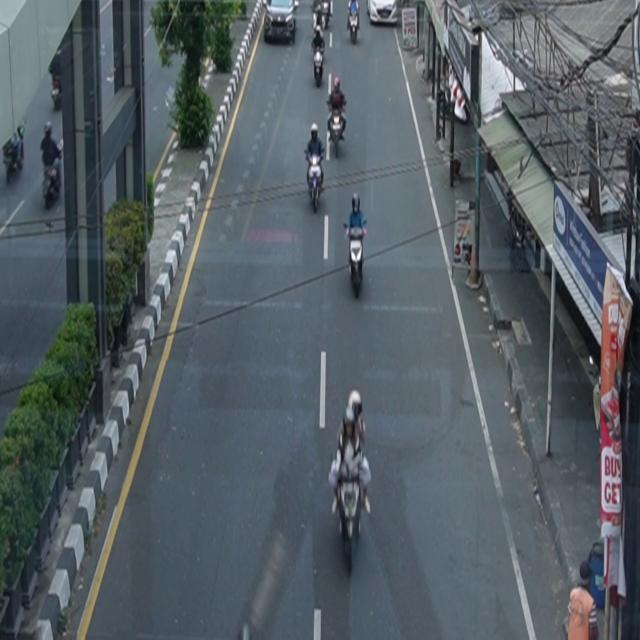car: (264, 1, 299, 45), (367, 1, 398, 26)
